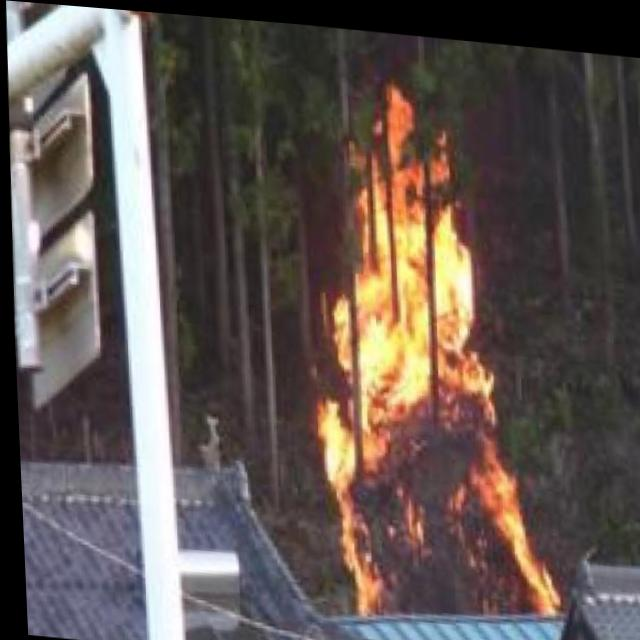Fire: (306, 77, 548, 630)
